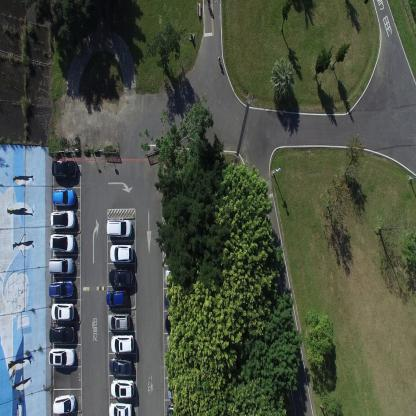car: (52, 392, 76, 416), (110, 334, 135, 356), (49, 324, 76, 344), (49, 209, 76, 229), (51, 160, 78, 180), (106, 218, 132, 238), (108, 267, 134, 287), (164, 290, 190, 310), (48, 279, 74, 299), (49, 232, 75, 252), (110, 378, 134, 399), (48, 348, 76, 366), (164, 268, 190, 287), (48, 257, 75, 275), (110, 243, 134, 263), (167, 380, 191, 400), (50, 302, 74, 322), (164, 313, 189, 332), (106, 288, 129, 308), (109, 356, 132, 376), (107, 313, 131, 332), (52, 188, 76, 207), (166, 335, 189, 354), (108, 401, 132, 415), (166, 403, 190, 415)
